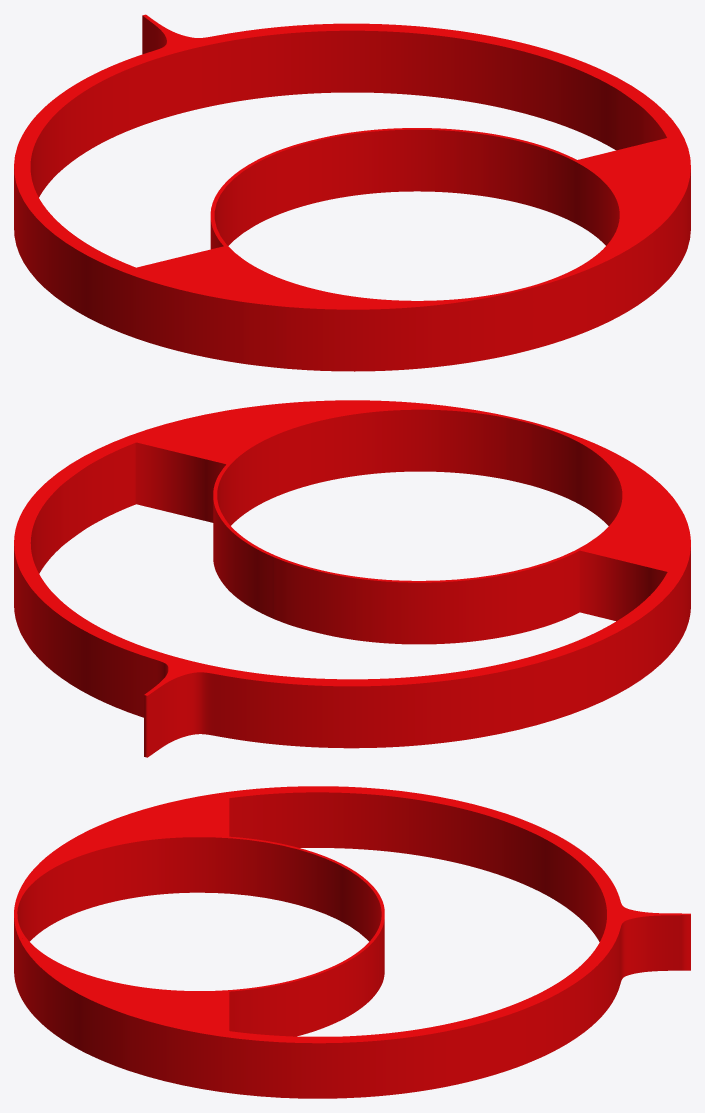
Rendered from HouseWorldMeshSmooth.fbx.
The picture shows the model from 3 angles, top to bottom: view 1: azimuth 30°, elevation 25°; view 2: azimuth 150°, elevation 25°; view 3: azimuth 270°, elevation 25°; orthographic projection. The views are drawn at different scales.
Visible parts, largest first — view 1: Curve; view 2: Curve; view 3: Curve.
Boxes of the visible parts, x1,y1,x2,y2 form: Curve: (14, 14, 690, 371); Curve: (14, 400, 690, 757); Curve: (14, 786, 690, 1098).
Size of the model in its own units: 448 by 45.11 by 498.
